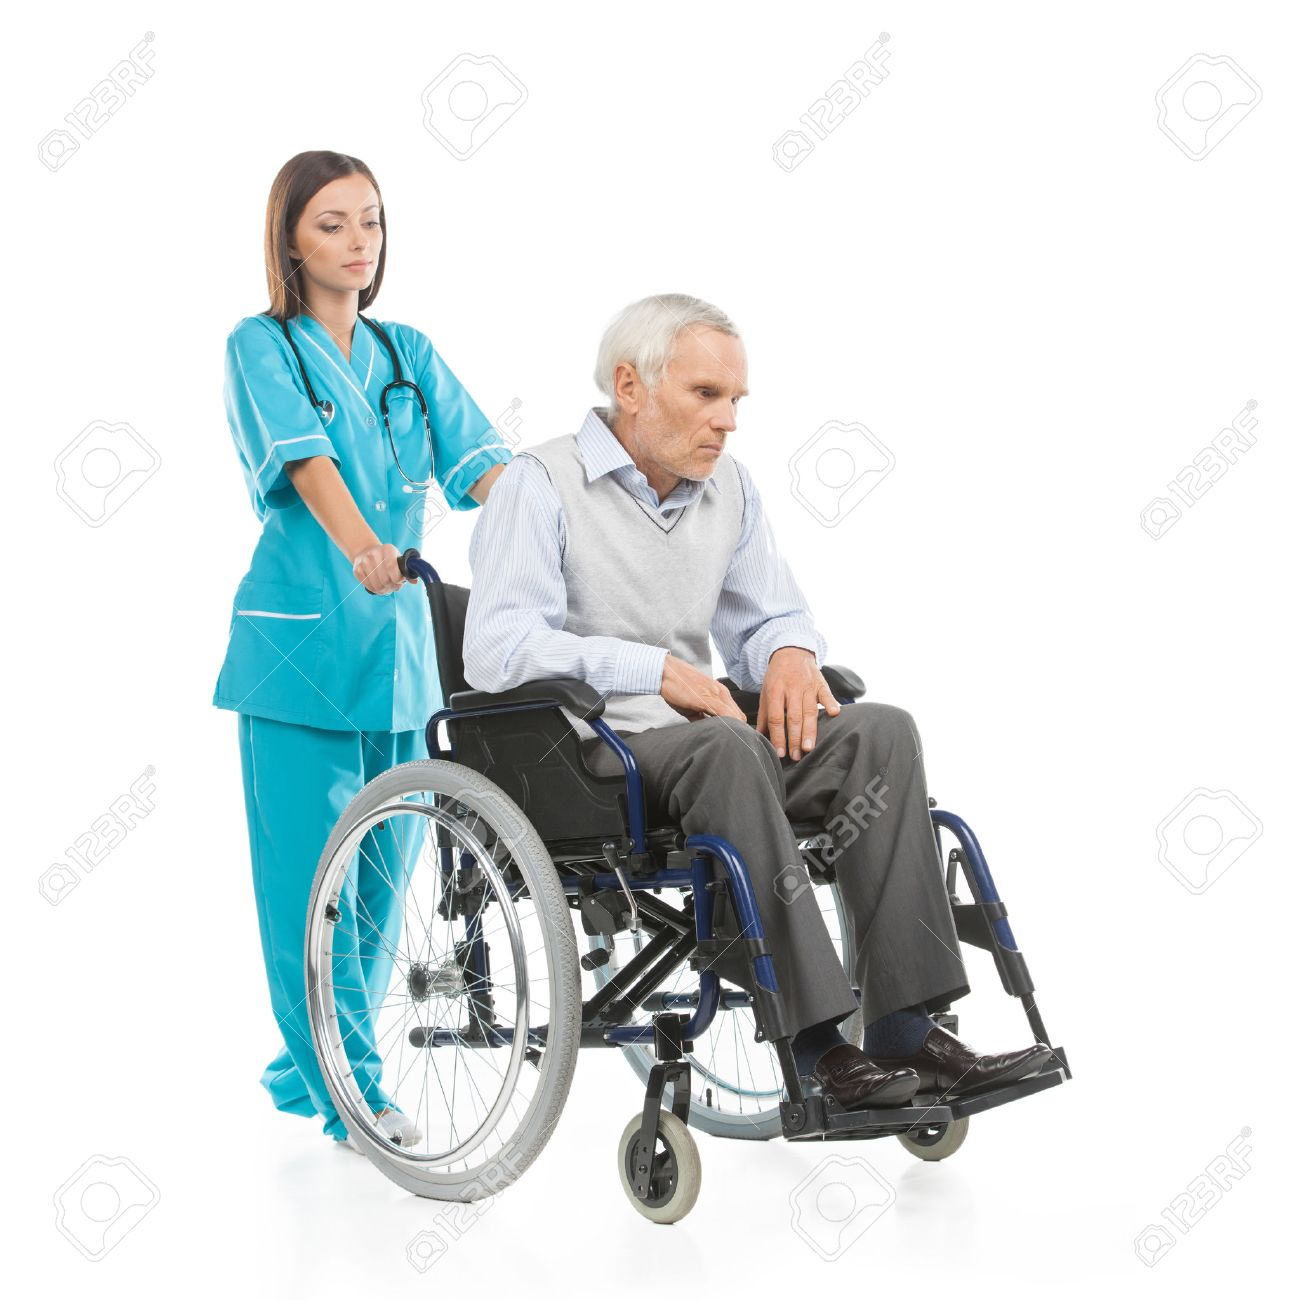wheelchair: (301, 290, 1073, 1226)
